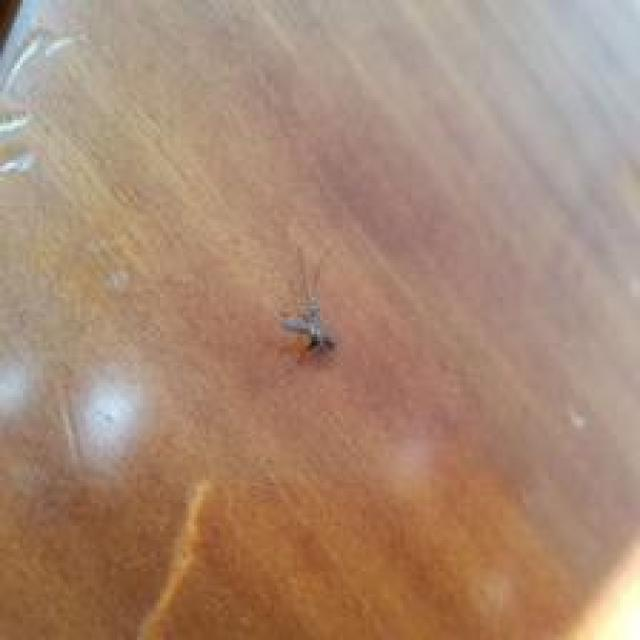Culex: (276, 246, 338, 366)
